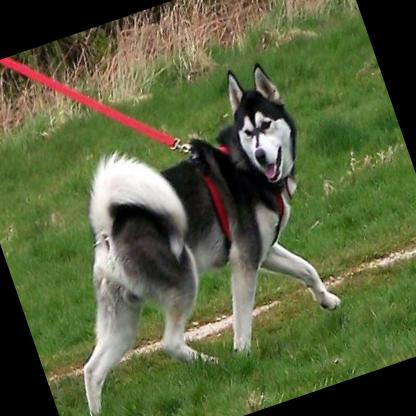Siberian_husky: (0, 51, 361, 415)
